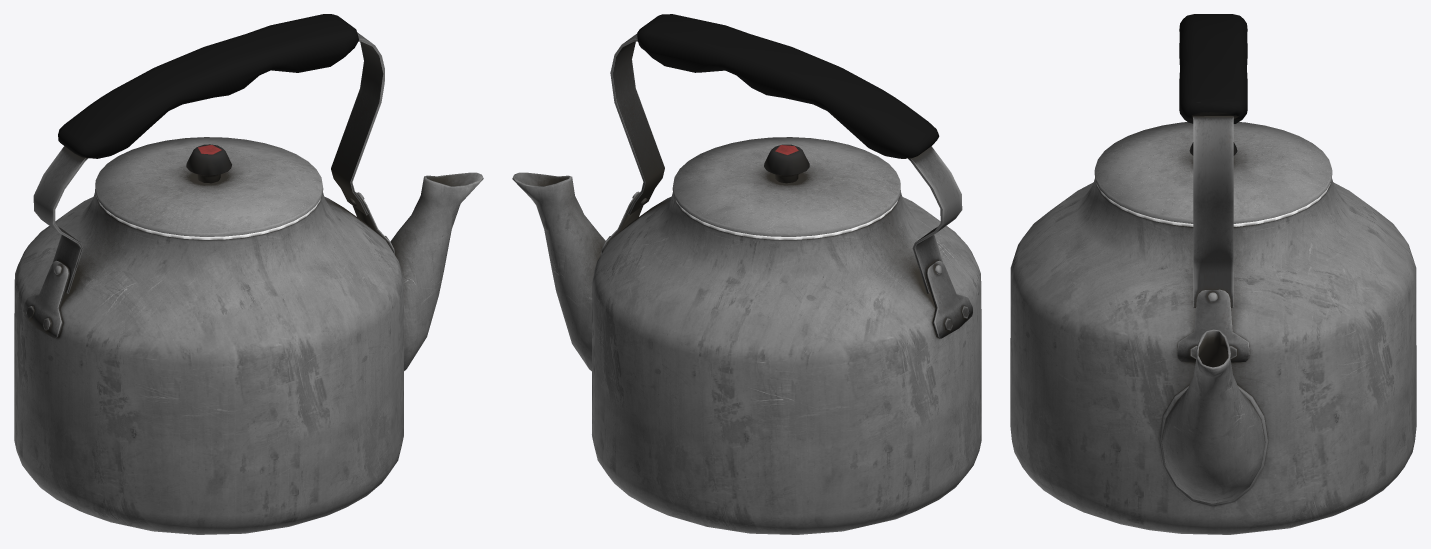
The model's file is Kettle.fbx.
3 views of the same model, side by side, from view 1: azimuth 30°, elevation 25°; view 2: azimuth 150°, elevation 25°; view 3: azimuth 270°, elevation 25° (orthographic). The views are drawn at different scales.
Visible parts, largest first — view 1: Kettle; view 2: Kettle; view 3: Kettle.
Boxes of the visible parts, x1,y1,x2,y2 form: Kettle: (14,14,483,534); Kettle: (512,14,981,534); Kettle: (1010,14,1416,534).
Size of the model in its own units: 34.63 by 30.53 by 26.23.
1 material, 1 textured.
